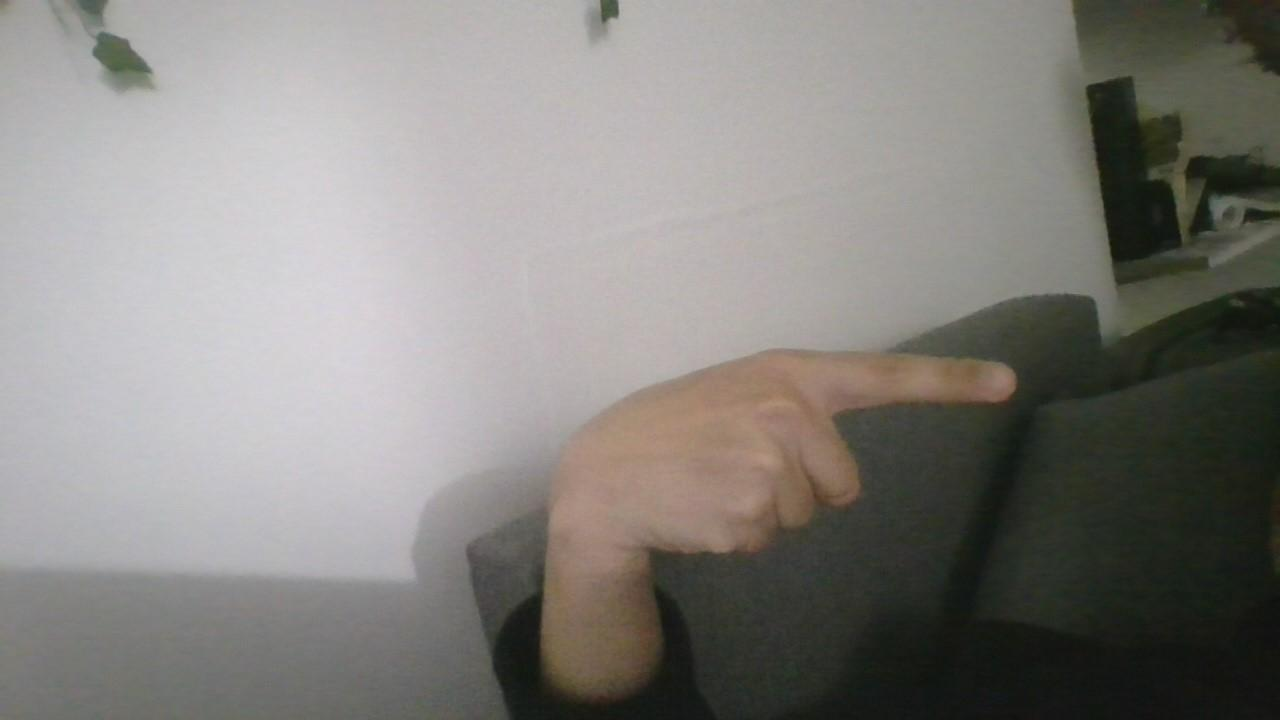right: (532, 320, 1028, 566)
